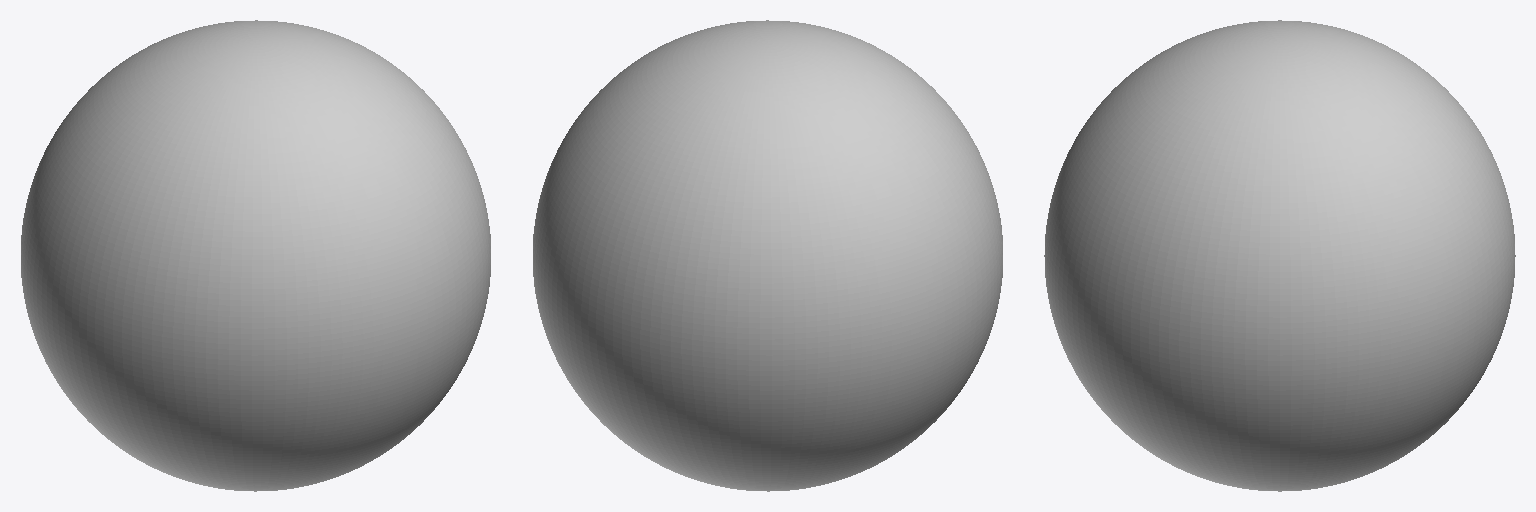
File: sun.obj
3 views of the same model, side by side, from view 1: azimuth 30°, elevation 25°; view 2: azimuth 150°, elevation 25°; view 3: azimuth 270°, elevation 25° (orthographic).
Visible parts, largest first — view 1: Moon_Sphere.001; view 2: Moon_Sphere.001; view 3: Moon_Sphere.001.
Part boxes in pixels (x1,y1,x2,y2): Moon_Sphere.001: (21,20,490,491); Moon_Sphere.001: (533,20,1002,491); Moon_Sphere.001: (1044,20,1515,491).
Size of the model in its own units: 2 by 2 by 2.